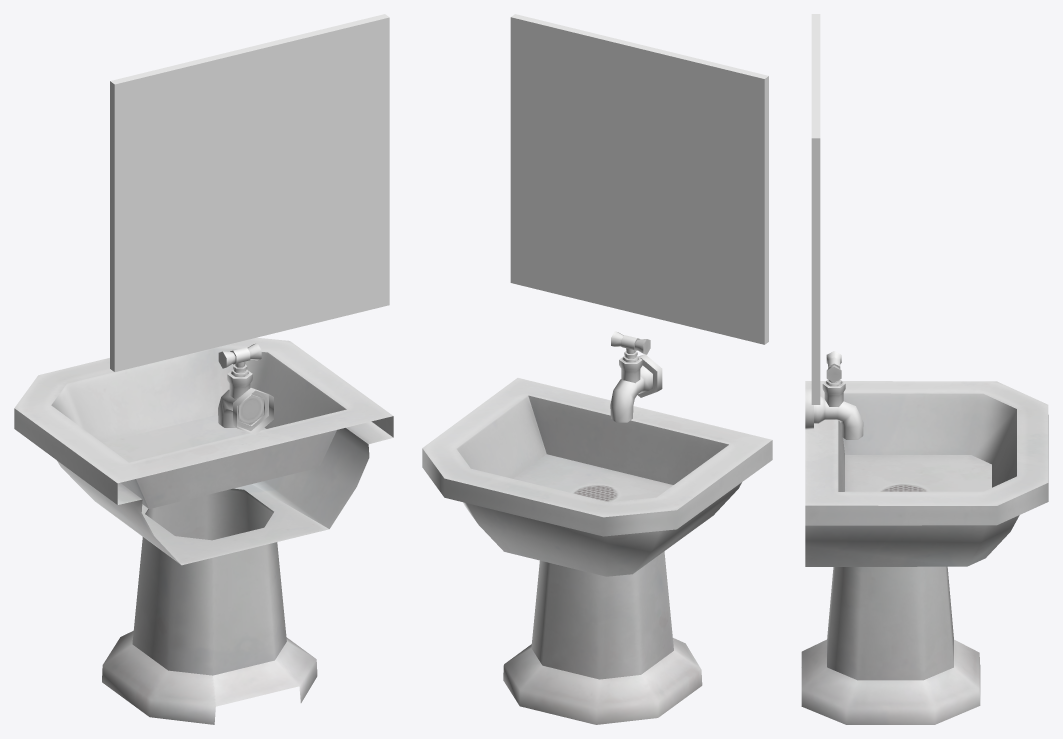
The model's file is Prfb_Indoors_WC.fbx.
3 views of the same model, side by side, from view 1: azimuth 30°, elevation 25°; view 2: azimuth 150°, elevation 25°; view 3: azimuth 270°, elevation 25° (orthographic). The views are drawn at different scales.
Visible parts, largest first — view 1: Mat_Indoors_WC_01, Mirror; view 2: Mirror, Mat_Indoors_WC_01; view 3: Mat_Indoors_WC_01, Mirror.
Boxes of the visible parts, left/top/right/bottom form: Mat_Indoors_WC_01: left=14, top=337, right=393, bottom=724; Mirror: left=110, top=14, right=389, bottom=371; Mirror: left=510, top=14, right=768, bottom=344; Mat_Indoors_WC_01: left=422, top=331, right=772, bottom=724; Mat_Indoors_WC_01: left=801, top=351, right=1048, bottom=724; Mirror: left=811, top=14, right=820, bottom=404.
Size of the model in its own units: 1 by 2.29 by 0.8398.
2 materials, 2 textured.
